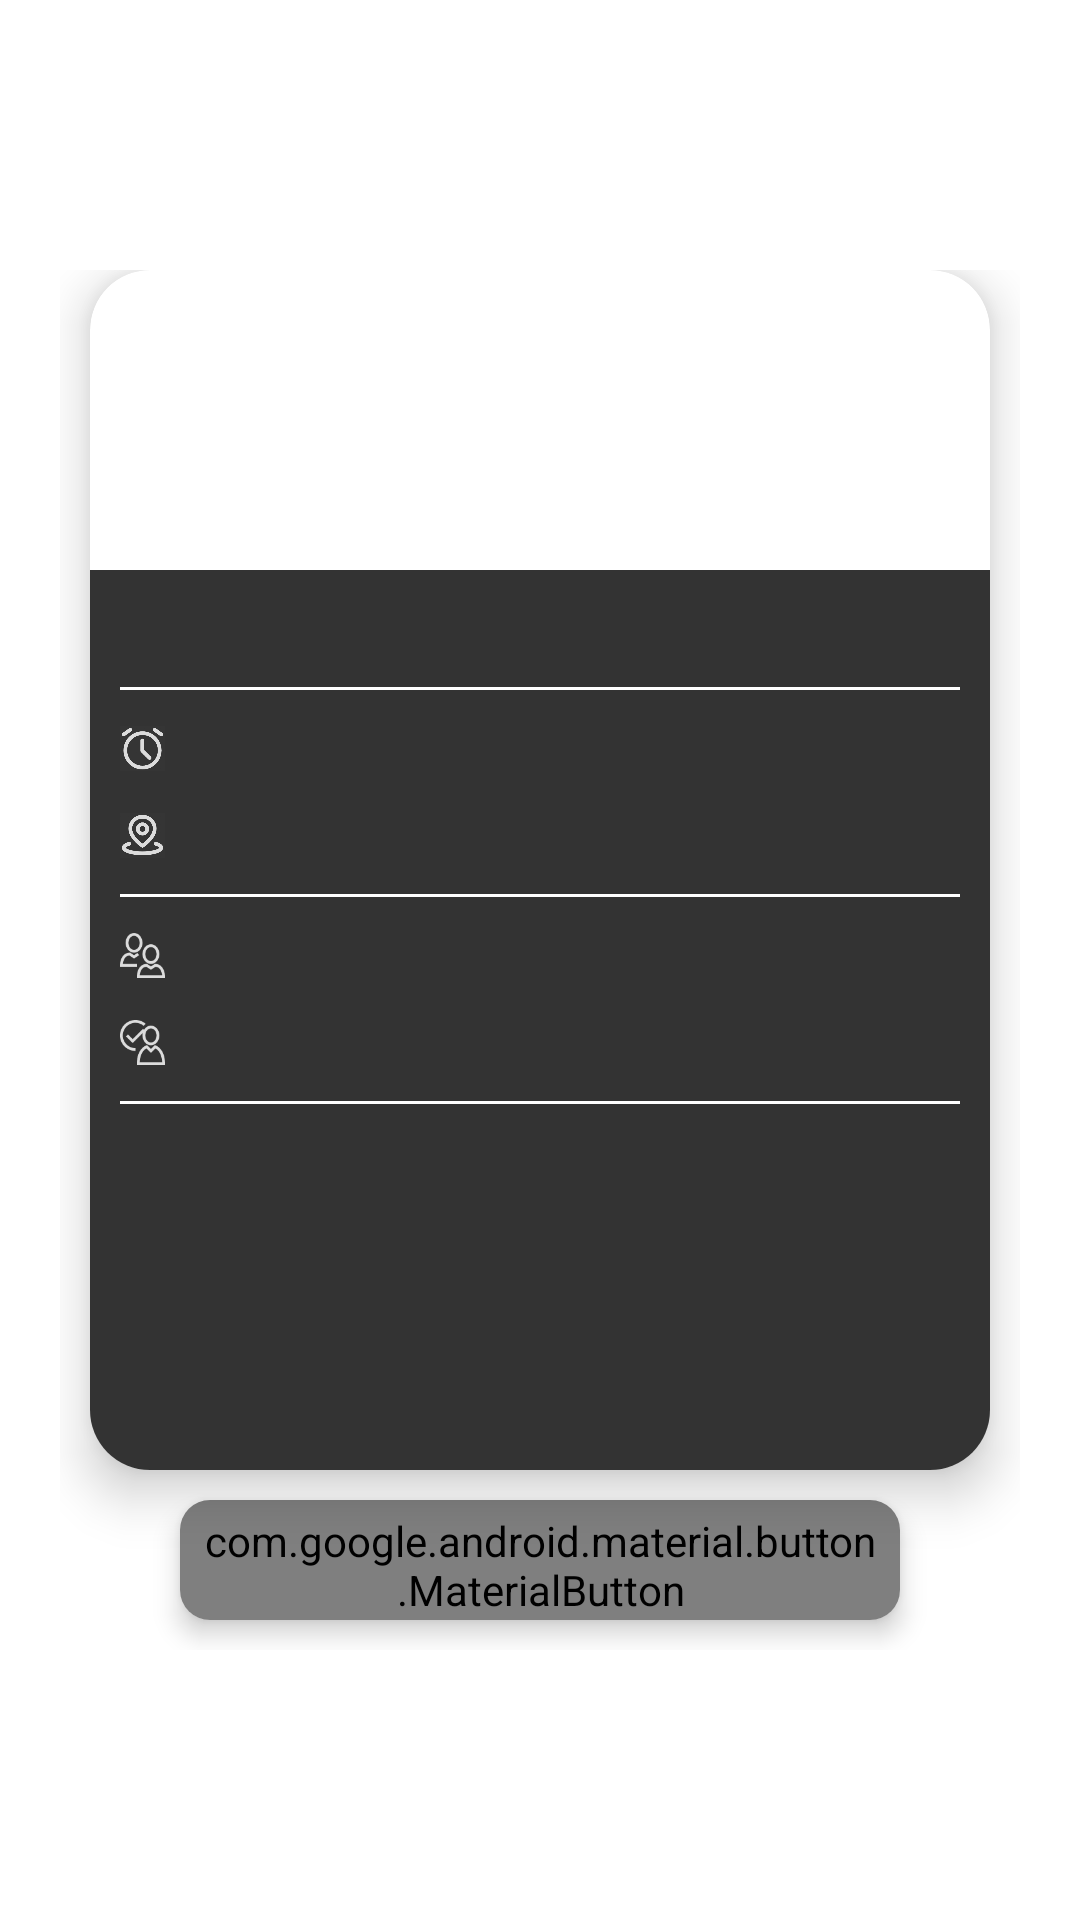

Screen size 1080 x 1920. Icon name, then its box in pixels as (x1, y1, x2, y2):
activity status: (120, 1020, 165, 1065)
bai activity local: (122, 815, 163, 855)
bai activity time: (122, 728, 163, 770)
bai people: (120, 933, 165, 978)
